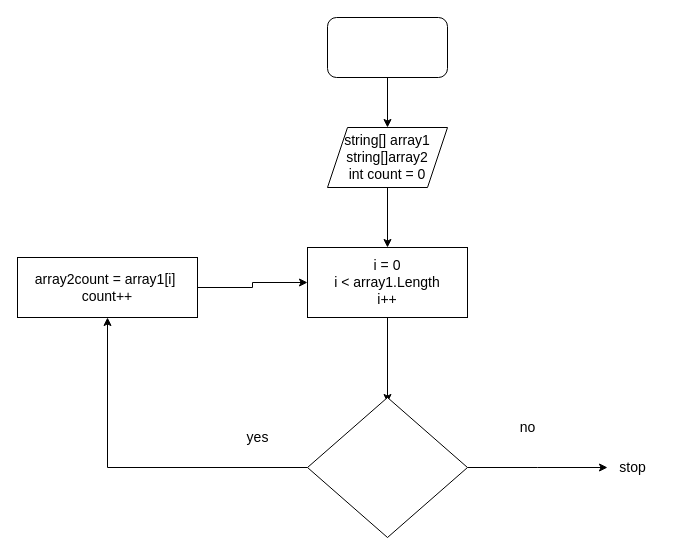
This 675x555 diagram has some shape labels left out. The centre of each missing label's shape, as x and y in pixels:
"array1.Length <=3" goes at point (387, 467).
"Start" goes at point (387, 47).
